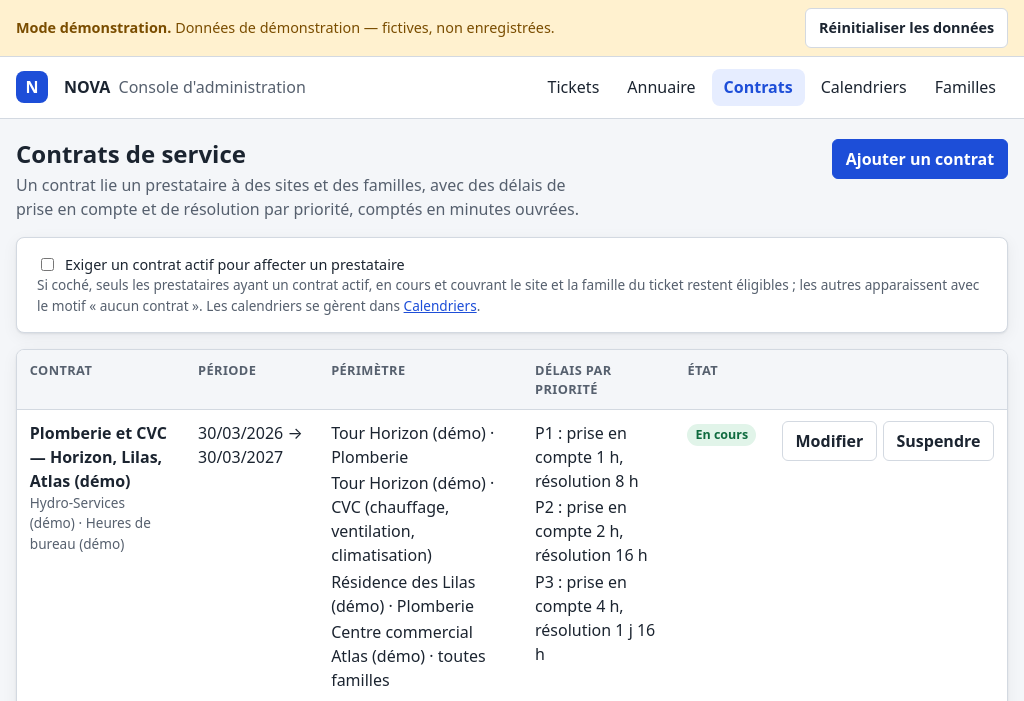
Test: contrats de service › exiger un contrat : bascule enregistrée et annoncée, effet sur l'éligibilité
Click the checkbox labelled "Exiger un contrat actif pour affecter un prestataire" at (48, 265), box [41,258,54,271]
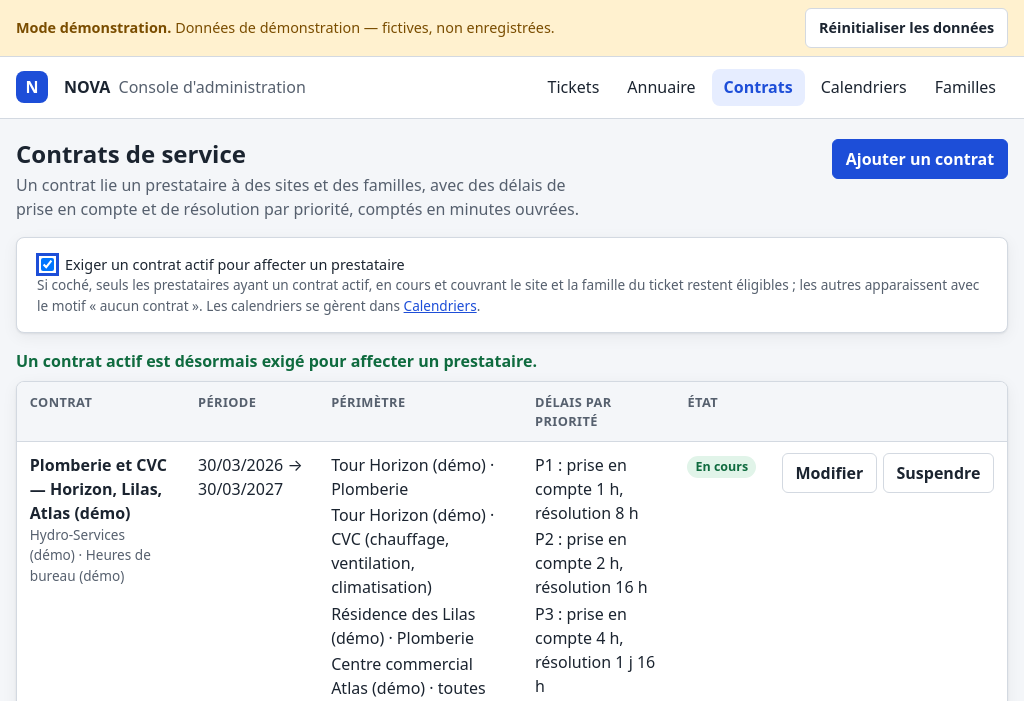
Expected: the checkbox labelled "Exiger un contrat actif pour affecter un prestataire" is checked, [41,258,54,271]
Expected: the text "Un contrat actif est désormais exigé" is shown, [16,350,537,372]
